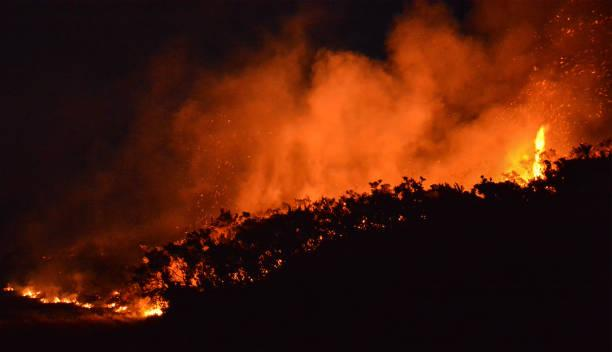Fire: (14, 24, 566, 275)
